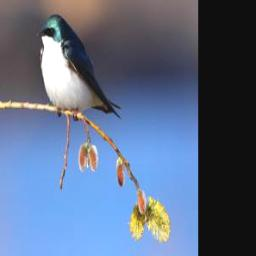Swallow: (35, 13, 122, 118)
